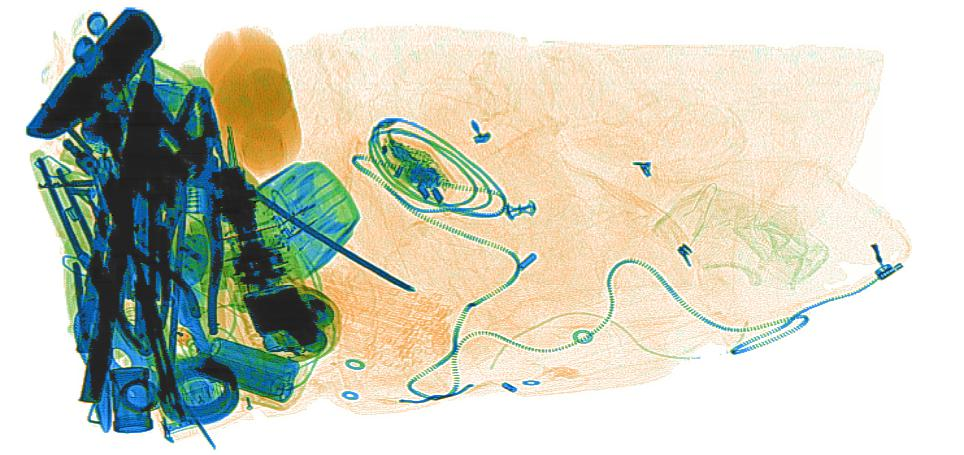battery: (200, 334, 301, 405)
